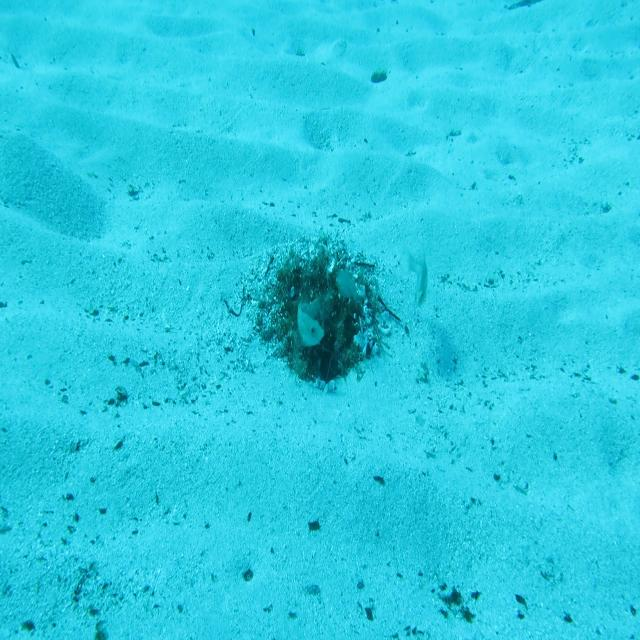DAN_CIRC: (295, 286, 330, 351)
female: (398, 245, 430, 308)
nest: (247, 220, 395, 366)
other_fish: (335, 268, 361, 311)
